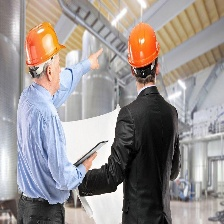helmet: (25, 24, 63, 61), (128, 22, 159, 64)
no-vest: (117, 93, 179, 223), (17, 85, 84, 205)
person: (17, 23, 97, 224), (113, 25, 181, 224)
